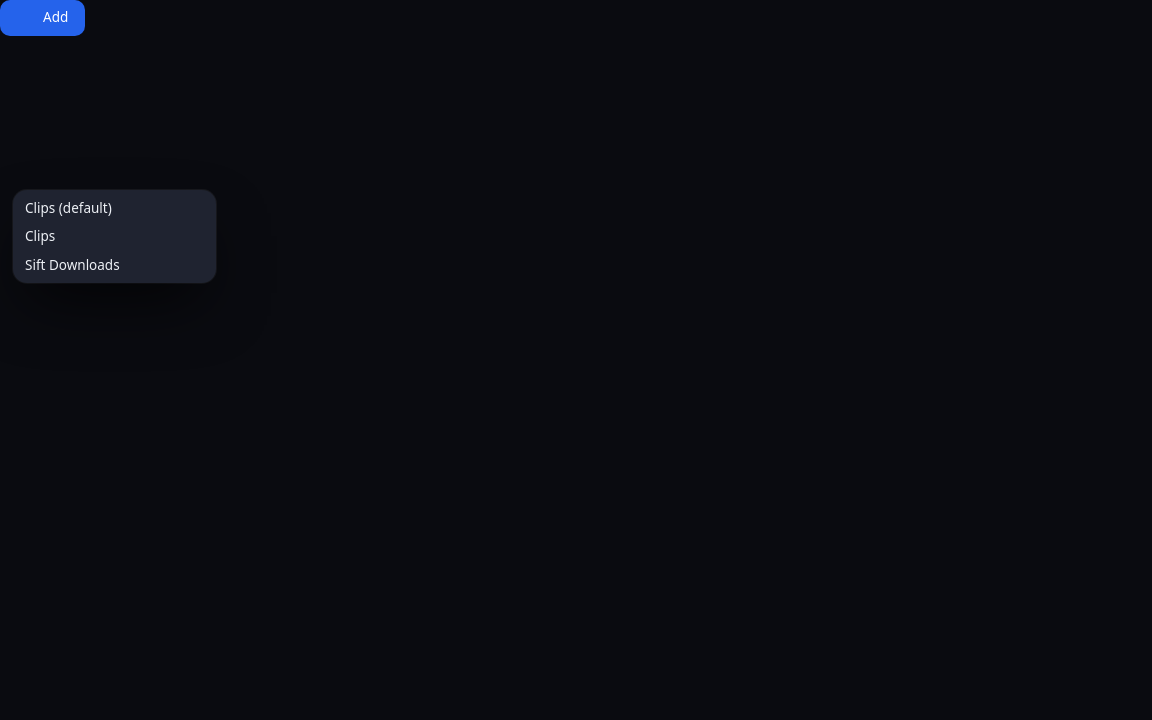
the folder chooser › says nothing it cannot know when the default has never been set
Hover over the button "Add" at [43, 18], box [0,0,85,36]
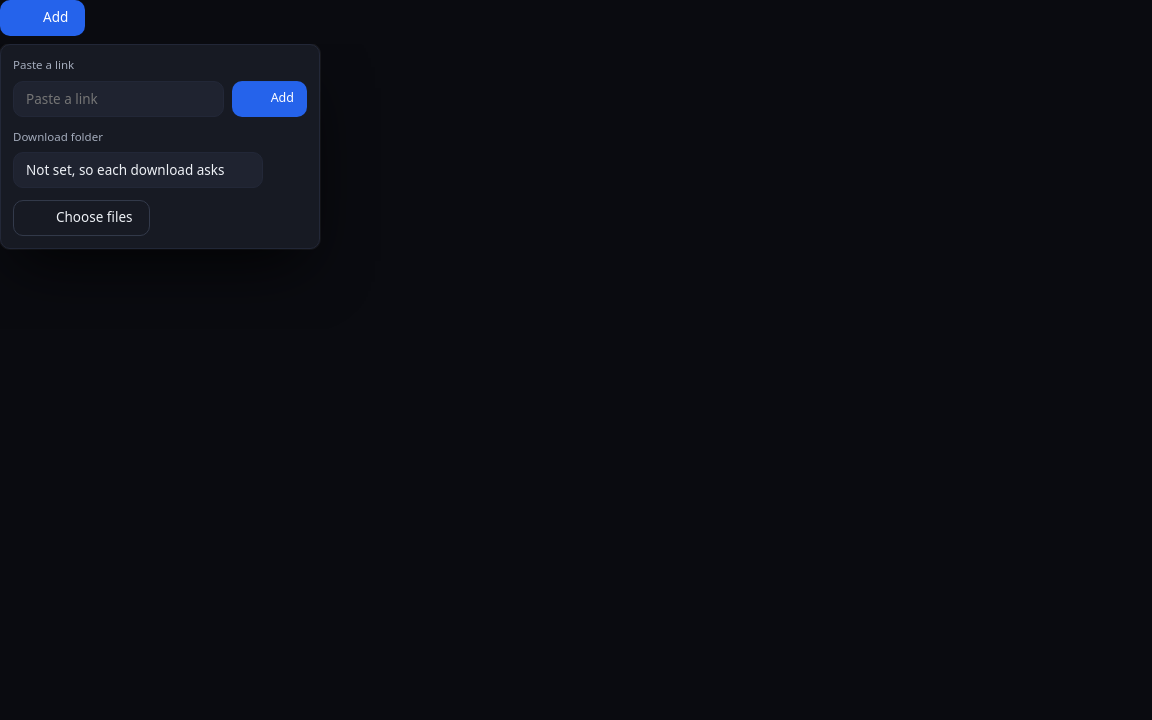
Result: the element with class "ui-select-value" reads "Not set, so each download asks" at [26,161,224,179]
